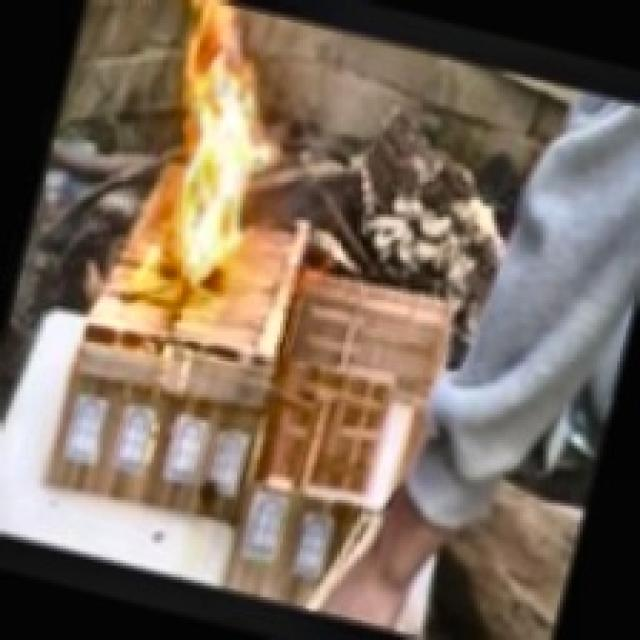fire: (97, 0, 302, 311)
